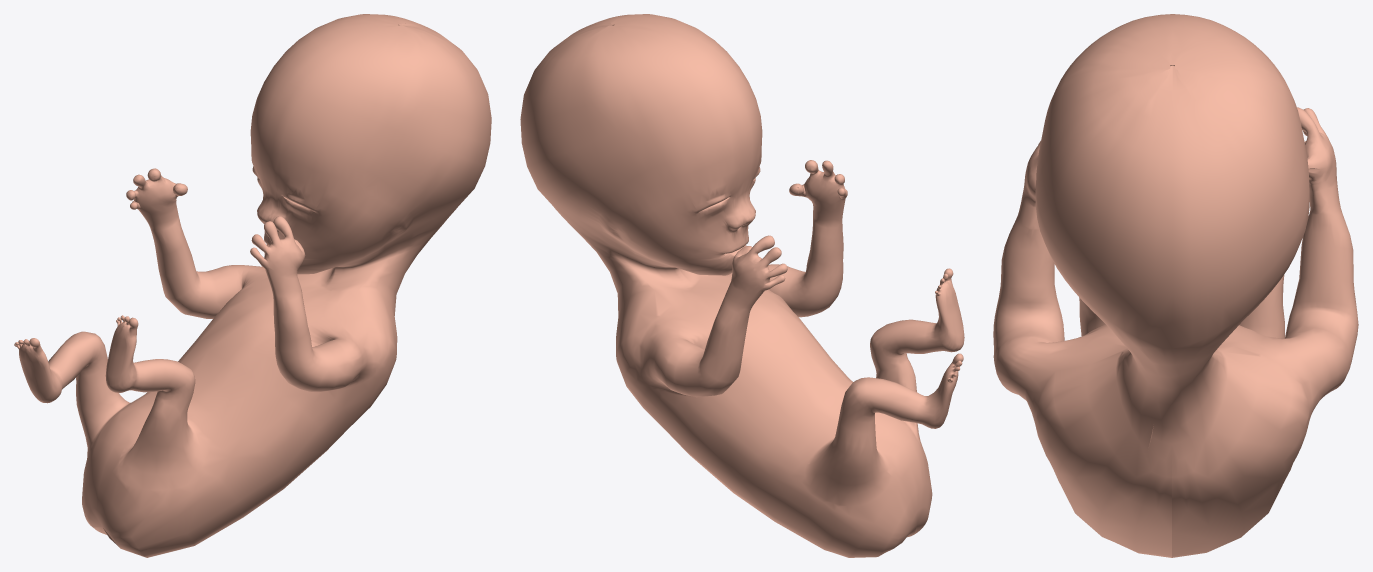
The model's file is baby_trimester_1.glb.
3 views of the same model, side by side, from view 1: azimuth 30°, elevation 25°; view 2: azimuth 150°, elevation 25°; view 3: azimuth 270°, elevation 25° (orthographic). The views are drawn at different scales.
Parts seen in each view (by area): view 1: Object_5; view 2: Object_5; view 3: Object_5.
Part boxes in pixels (x1,y1,x2,y2): Object_5: (14, 14, 491, 557); Object_5: (520, 14, 964, 557); Object_5: (993, 14, 1358, 557).
Size of the model in its own units: 18.76 by 18.6 by 9.65.
